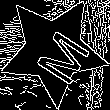M_NW: (21, 18, 87, 83)
